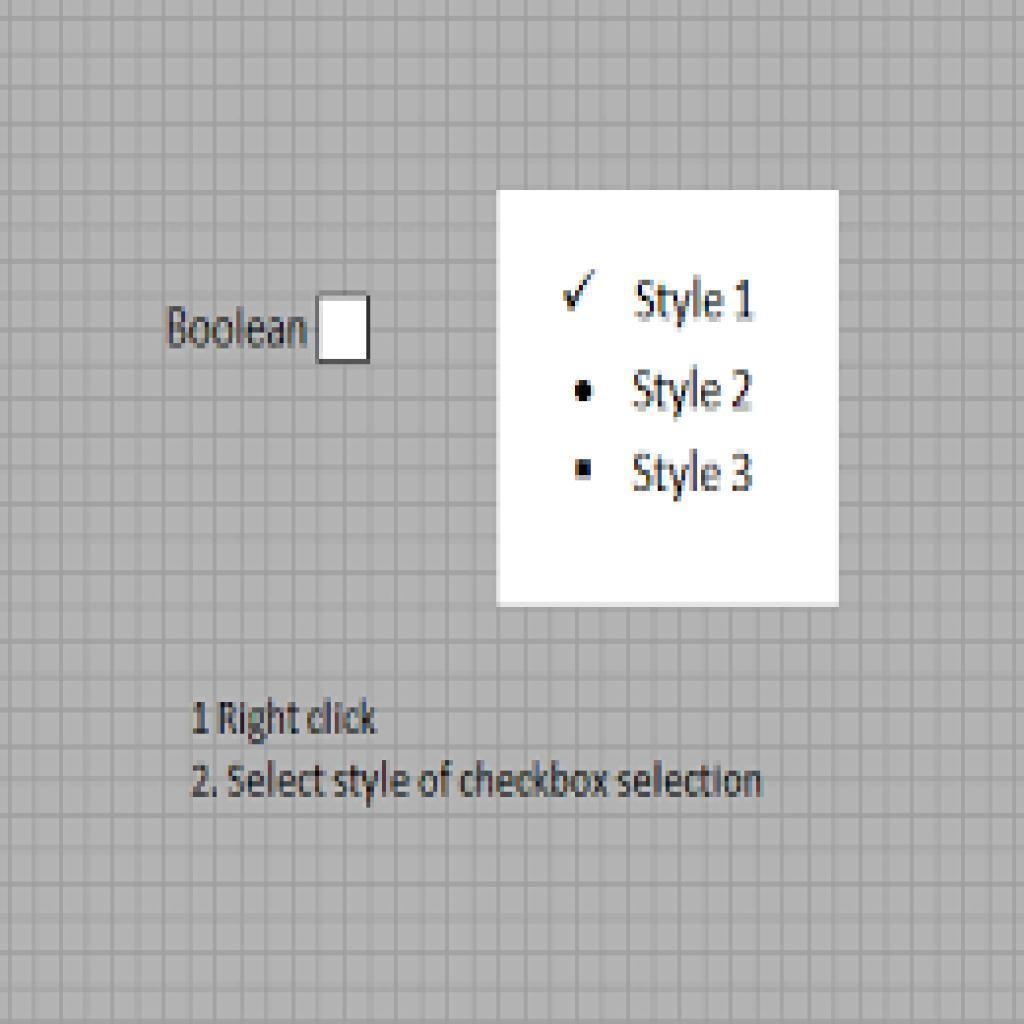checkbox: (313, 294, 374, 368)
label: (164, 297, 312, 354)
